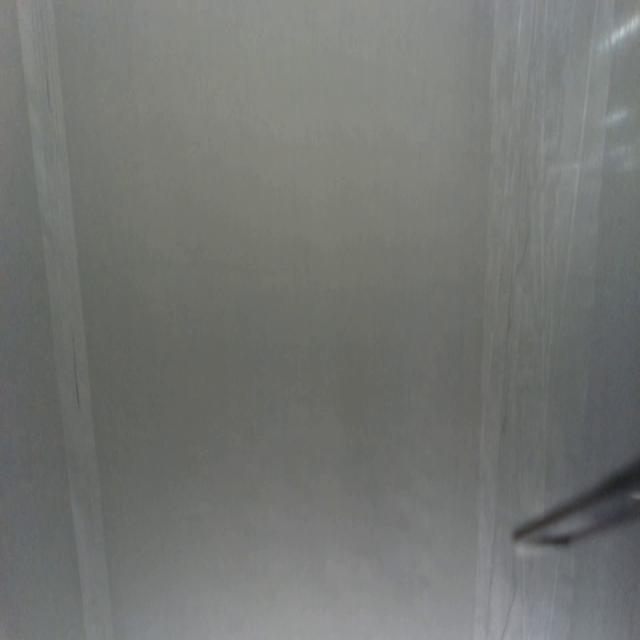crease: (19, 2, 116, 630), (558, 1, 603, 318), (483, 297, 513, 639)
